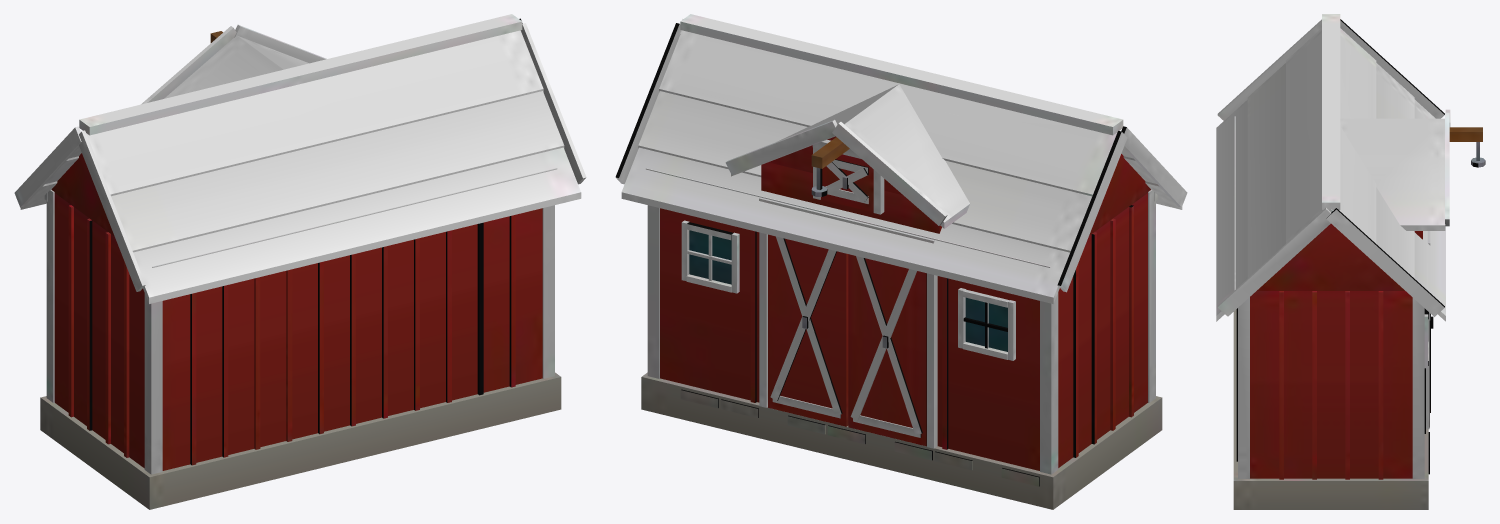
The model's file is storehouse_3.glb.
3 views of the same model, side by side, from view 1: azimuth 30°, elevation 25°; view 2: azimuth 150°, elevation 25°; view 3: azimuth 270°, elevation 25° (orthographic). The views are drawn at different scales.
Visible parts, largest first — view 1: shed3_red; view 2: shed3_red, door_r, door_l; view 3: shed3_red.
Part boxes in pixels (<box>): shed3_red: <box>14,14,586,509</box>; shed3_red: <box>615,14,1187,509</box>; door_r: <box>768,234,848,426</box>; door_l: <box>848,254,926,446</box>; shed3_red: <box>1216,14,1485,509</box>.
Size of the model in its own units: 5 by 3.75 by 2.93.
5 materials, 5 textured.
